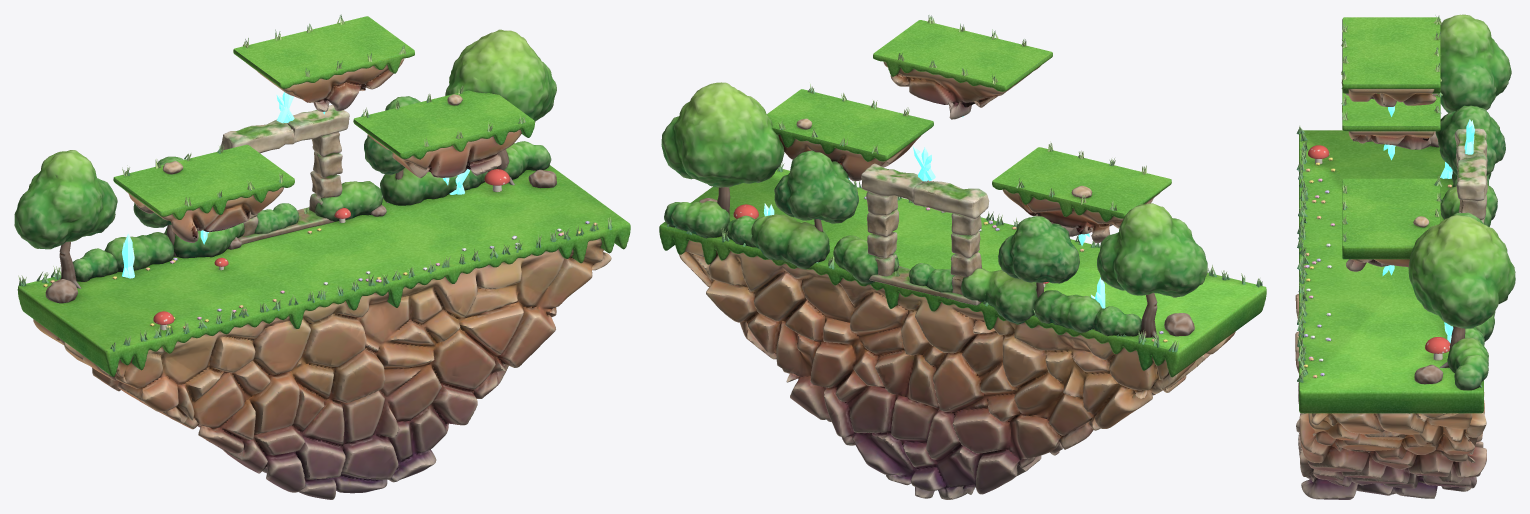
The model's file is isla.glb.
3 views of the same model, side by side, from view 1: azimuth 30°, elevation 25°; view 2: azimuth 150°, elevation 25°; view 3: azimuth 270°, elevation 25° (orthographic). The views are drawn at different scales.
Parts seen in each view (by area): view 1: isla_roca, isla_pasto, copas, arbustos, plat2_pasto, plat0_pasto, plat1_pasto, ruina, matas, plat1_roca, plat2_roca, plat0_roca (+4 smaller); view 2: isla_roca, copas, isla_pasto, arbustos, ruina, plat2_pasto, plat0_pasto, plat1_pasto, plat2_roca, matas, plat0_roca, plat1_roca (+3 smaller); view 3: isla_pasto, copas, isla_roca, plat1_pasto, plat2_pasto, arbustos, plat0_pasto, ruina, matas, plat2_roca, plat0_roca, cristales (+4 smaller).
Part boxes in pixels (x1=…): isla_roca: x1=33, y1=238, x2=611, y2=499; isla_pasto: x1=17, y1=165, x2=630, y2=376; copas: x1=14, y1=29, x2=556, y2=249; arbustos: x1=73, y1=141, x2=551, y2=281; plat2_pasto: x1=233, y1=16, x2=414, y2=88; plat0_pasto: x1=113, y1=144, x2=294, y2=219; plat1_pasto: x1=353, y1=90, x2=534, y2=159; ruina: x1=220, y1=105, x2=349, y2=244; matas: x1=18, y1=14, x2=611, y2=351; plat1_roca: x1=367, y1=129, x2=521, y2=178; plat2_roca: x1=246, y1=58, x2=404, y2=111; plat0_roca: x1=125, y1=187, x2=283, y2=242; isla_roca: x1=679, y1=240, x2=1235, y2=499; copas: x1=661, y1=82, x2=1207, y2=297; isla_pasto: x1=659, y1=168, x2=1266, y2=377; arbustos: x1=664, y1=201, x2=1141, y2=336; ruina: x1=861, y1=163, x2=989, y2=305; plat2_pasto: x1=873, y1=20, x2=1052, y2=91; plat0_pasto: x1=992, y1=147, x2=1171, y2=221; plat1_pasto: x1=767, y1=89, x2=933, y2=161; plat2_roca: x1=883, y1=61, x2=1040, y2=119; matas: x1=667, y1=15, x2=1262, y2=352; plat0_roca: x1=1002, y1=189, x2=1160, y2=243; plat1_roca: x1=778, y1=134, x2=921, y2=181; isla_pasto: x1=1299, y1=130, x2=1483, y2=413; copas: x1=1408, y1=14, x2=1515, y2=328; isla_roca: x1=1295, y1=294, x2=1486, y2=499; plat1_pasto: x1=1342, y1=178, x2=1440, y2=259; plat2_pasto: x1=1342, y1=17, x2=1440, y2=93; arbustos: x1=1440, y1=170, x2=1497, y2=390; plat0_pasto: x1=1342, y1=92, x2=1440, y2=131; ruina: x1=1454, y1=128, x2=1487, y2=223; matas: x1=1296, y1=15, x2=1481, y2=387; plat2_roca: x1=1341, y1=80, x2=1436, y2=106; plat0_roca: x1=1342, y1=105, x2=1434, y2=149; cristales: x1=1382, y1=106, x2=1474, y2=343.
Bounding box in the file's own units: 17.03 × 13.1 × 5.9.
18 materials, 9 textured.
